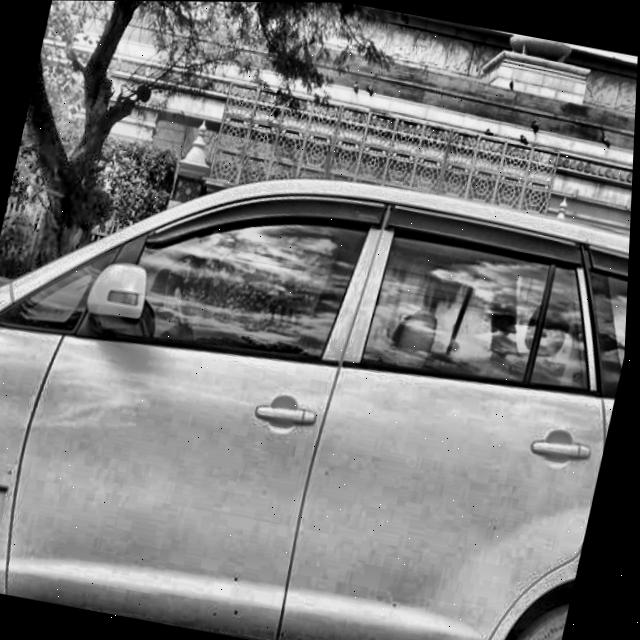light_vehicle: (0, 114, 636, 640)
